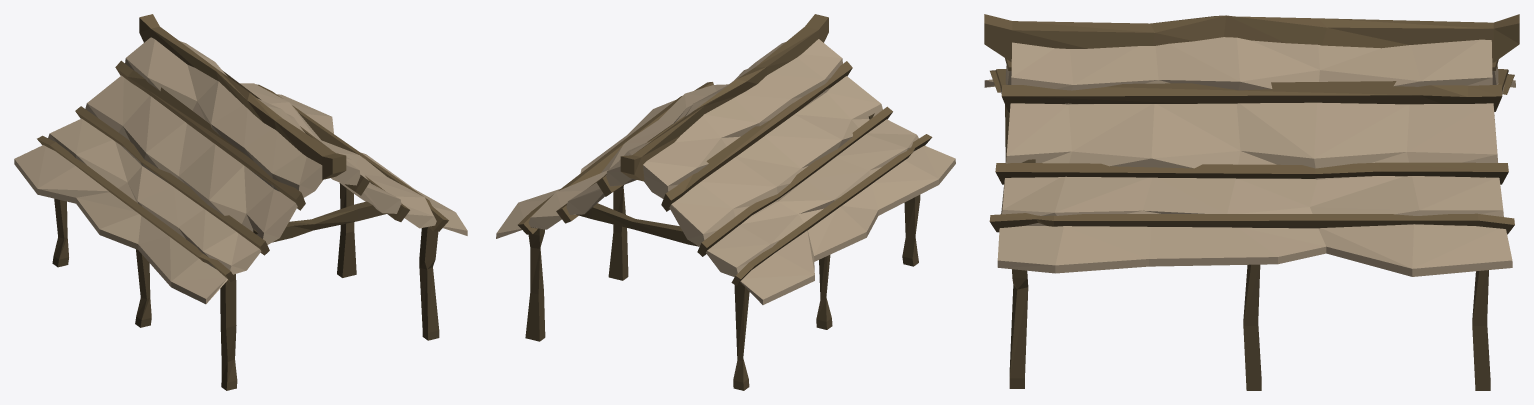
The model's file is SM_Bld_Rickety_House_03.glb.
3 renders of one model, left to right at view 1: azimuth 30°, elevation 25°; view 2: azimuth 150°, elevation 25°; view 3: azimuth 270°, elevation 25°, orthographic. The views are drawn at different scales.
Parts seen in each view (by area): view 1: SM_Bld_Rickety_House_03_part00; view 2: SM_Bld_Rickety_House_03_part00; view 3: SM_Bld_Rickety_House_03_part00.
Part boxes in pixels (<box>): SM_Bld_Rickety_House_03_part00: <box>14,14,467,390</box>; SM_Bld_Rickety_House_03_part00: <box>496,14,955,390</box>; SM_Bld_Rickety_House_03_part00: <box>984,14,1519,390</box>.
Bounding box in the file's own units: 5.44 × 3.8 × 6.18.
Materials: 1 (1 with a texture image).
